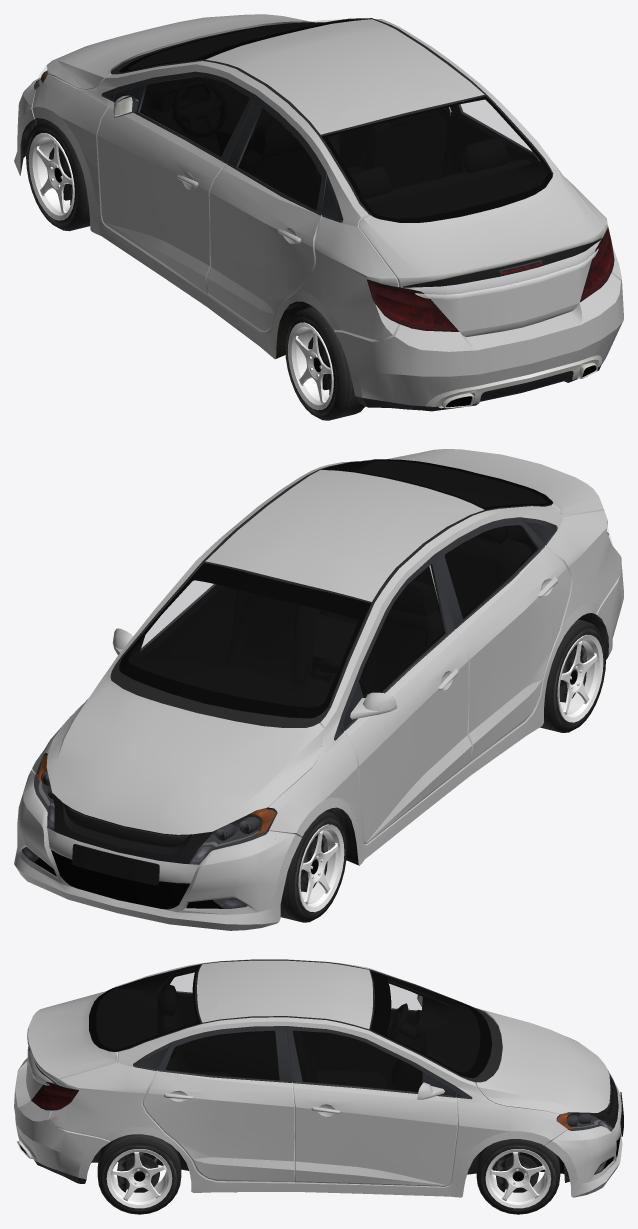
The model's file is sedan_2010.glb.
3 renders of one model, top to bottom at view 1: azimuth 30°, elevation 25°; view 2: azimuth 150°, elevation 25°; view 3: azimuth 270°, elevation 25°, orthographic. The views are drawn at different scales.
Visible parts, largest first — view 1: body, wheel_RL, wheel_FL; view 2: body, wheel_FL, wheel_RL, wheel_FR; view 3: body, wheel_FR, wheel_RR.
Part boxes in pixels (x1=…): body: x1=14, y1=14, x2=621, y2=420; wheel_RL: x1=285, y1=309, x2=475, y2=420; wheel_FL: x1=17, y1=77, x2=102, y2=230; body: x1=14, y1=449, x2=621, y2=930; wheel_FL: x1=178, y1=767, x2=365, y2=922; wheel_RL: x1=540, y1=569, x2=623, y2=732; wheel_FR: x1=17, y1=777, x2=61, y2=883; body: x1=14, y1=959, x2=623, y2=1214; wheel_FR: x1=449, y1=1120, x2=616, y2=1213; wheel_RR: x1=17, y1=1119, x2=178, y2=1213.
Size of the model in its own units: 1.9 by 1.6 by 4.85.
8 materials, 3 textured.
